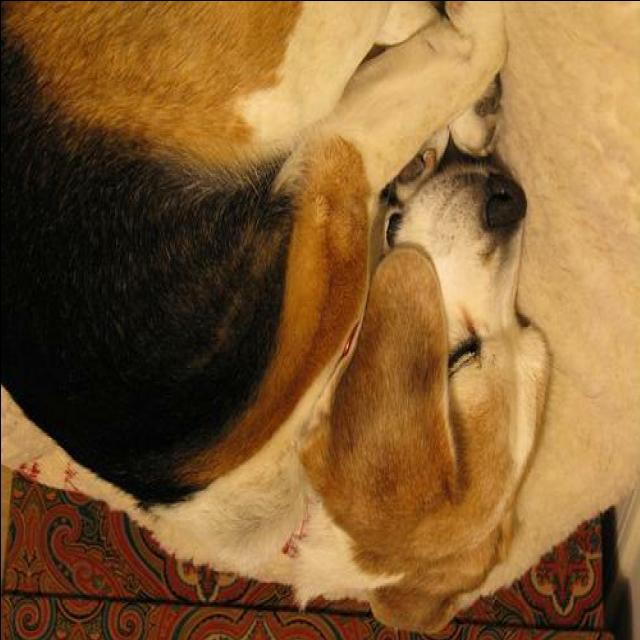beagle: (2, 1, 550, 634)
